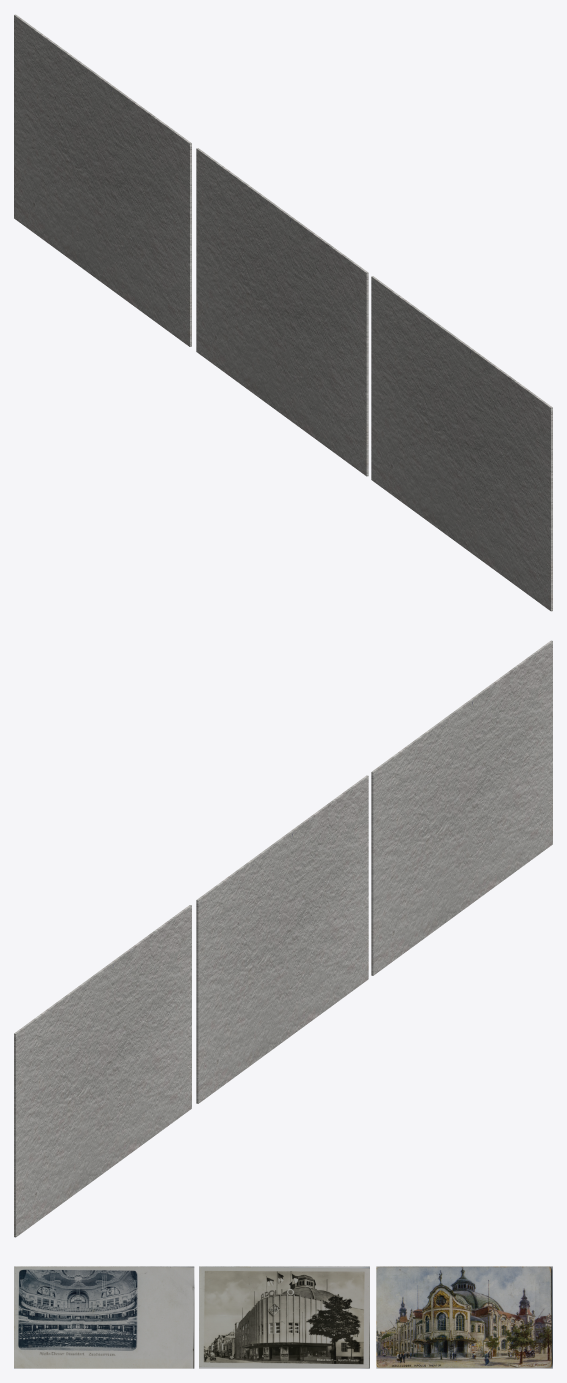
File: Duesseldorf.fbx
3 views of the same model, one above another, from view 1: azimuth 30°, elevation 25°; view 2: azimuth 150°, elevation 25°; view 3: azimuth 270°, elevation 25° (orthographic). The views are drawn at different scales.
Parts seen in each view (by area): view 1: FM.SLG.10.3-8-093_1, FM.SLG.10.3-8-095_1, FM.SLG.10.3-8-094_1; view 2: FM.SLG.10.3-8-093_1, FM.SLG.10.3-8-095_1, FM.SLG.10.3-8-094_1; view 3: FM.SLG.10.3-8-093_1, FM.SLG.10.3-8-095_1, FM.SLG.10.3-8-094_1.
Boxes of the visible parts, box(x1,y1,x2,y2) form: FM.SLG.10.3-8-093_1: box(371, 276, 552, 611); FM.SLG.10.3-8-095_1: box(14, 14, 191, 346); FM.SLG.10.3-8-094_1: box(196, 148, 368, 476); FM.SLG.10.3-8-093_1: box(371, 640, 552, 975); FM.SLG.10.3-8-095_1: box(14, 905, 191, 1237); FM.SLG.10.3-8-094_1: box(196, 775, 368, 1103); FM.SLG.10.3-8-093_1: box(14, 1266, 194, 1368); FM.SLG.10.3-8-095_1: box(376, 1266, 552, 1368); FM.SLG.10.3-8-094_1: box(199, 1266, 369, 1368).
Bounding box in the file's own units: 1 × 100 × 478.
6 materials, 6 textured.
